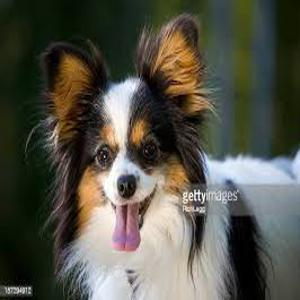yell: (38, 13, 300, 300)
